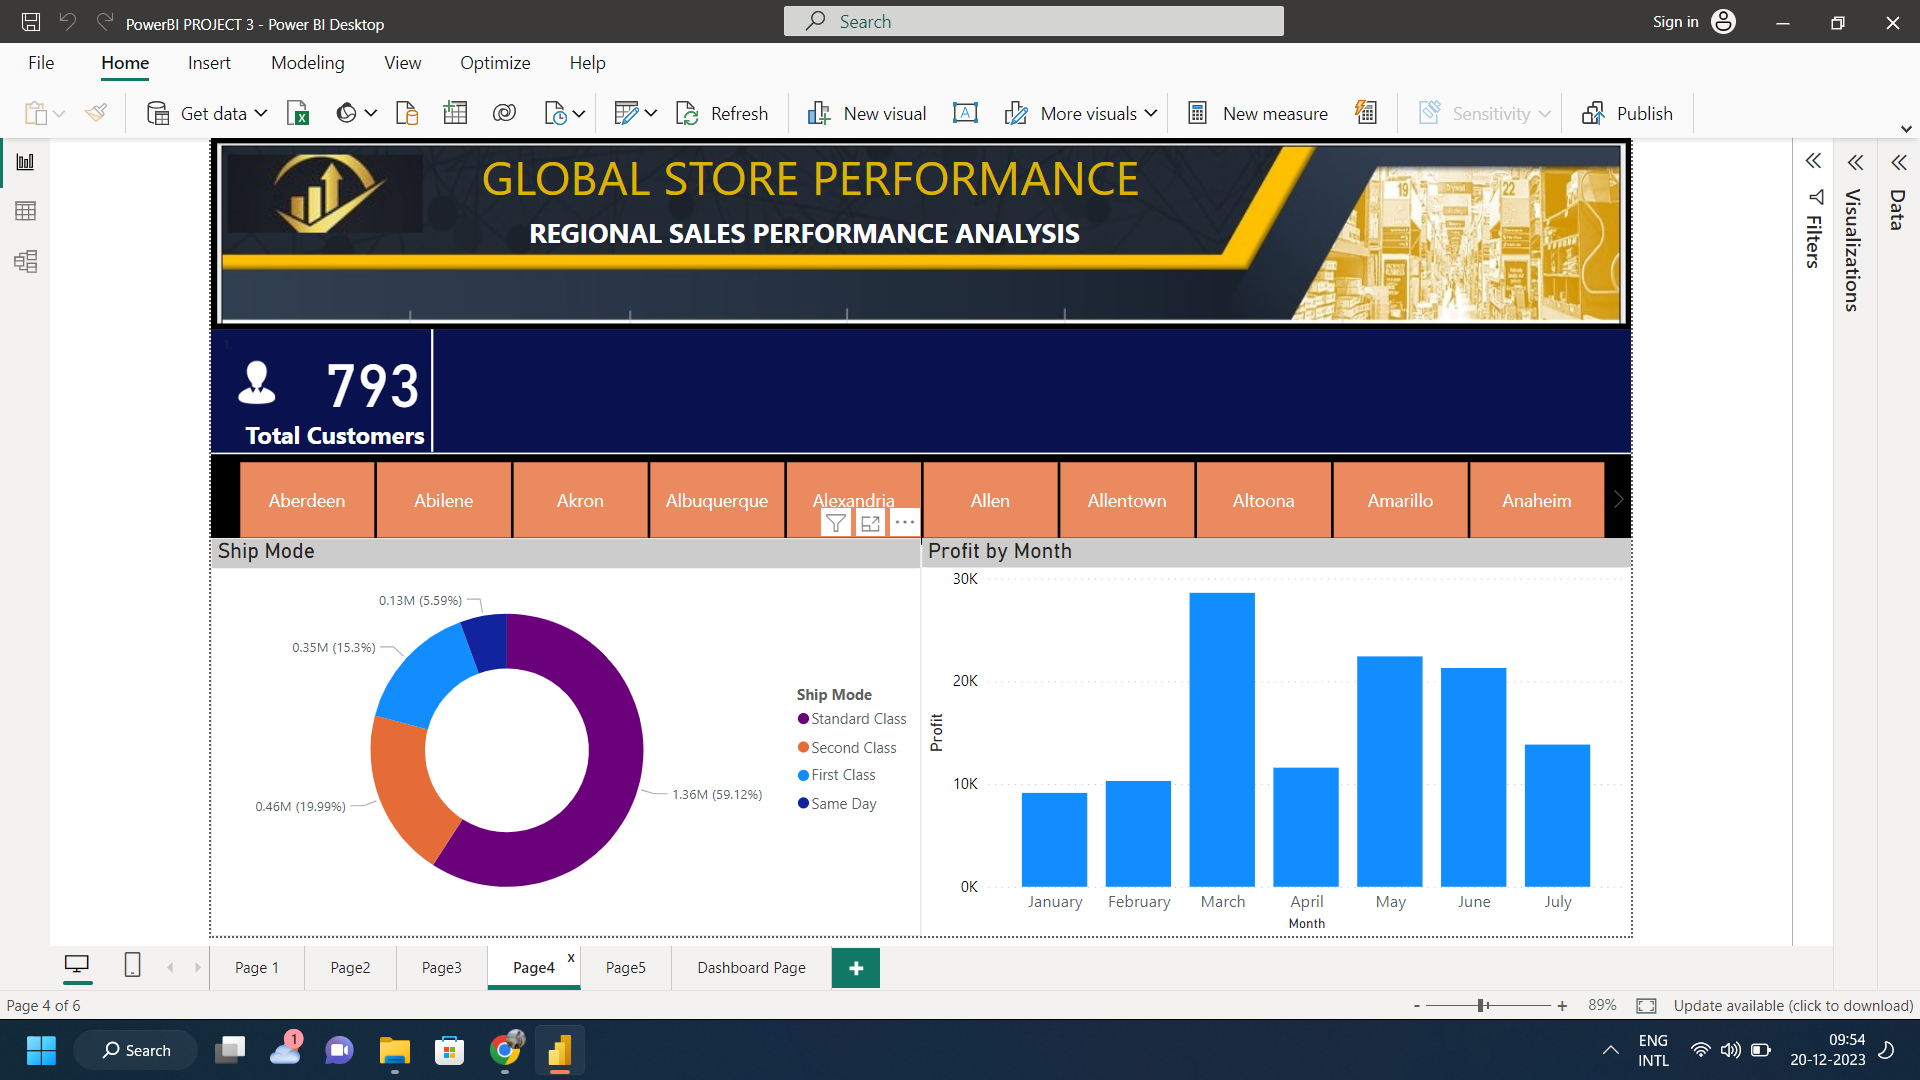

What the dashboard file says about the page in this screenshot:
{"tool":"powerbi","page":{"name":"Page4","canvas":[1280,720],"ordinal":3},"visuals":[{"type":"image","box":[0,0,1280,172.5],"z":0},{"type":"textbox","box":[238.9,0,618.4,73.3],"z":1000},{"type":"image","box":[10,10,186,80],"z":2000},{"type":"textbox","box":[281.2,63.8,549.4,44],"z":3000},{"type":"textbox","box":[0,172.5,1280,111.3],"z":4000},{"type":"image","box":[17.3,193.2,49.2,55.2],"z":5000},{"type":"card","fields":{"Values":["Count(Orders.Customer ID)"]},"box":[86.8,185.8,118.6,62.3],"z":6000},{"type":"textbox","box":[0,248.4,223.4,39.7],"z":7000},{"type":"shape","box":[194.1,172.5,11.2,110.4],"z":8000},{"type":"slicer","fields":{"Values":["Orders.City"]},"box":[0,284.6,1280,81.9],"z":9000},{"type":"donutChart","title":"Ship Mode","fields":{"Y":["Sum(Orders.Sales)"],"Category":["Orders.Ship Mode"]},"box":[0,360,640.3,360],"z":10000},{"type":"columnChart","fields":{"Y":["Sum(Orders.Profit)"],"Category":["Orders.Order Date.Variation.Date Hierarchy.Month"]},"box":[640.7,360.8,639.1,359.2],"z":11000}]}

Visuals, with their boxes on the page's 1280x720 design canvas (x1, y1, x2, y2). These are canvas units, not pixel positions in the 1920x1080 screenshot, which may show the page scaled, cropped or inside an application window:
image: region(0, 0, 1280, 172)
textbox: region(239, 0, 857, 73)
image: region(10, 10, 196, 90)
textbox: region(281, 64, 831, 108)
textbox: region(0, 172, 1280, 284)
image: region(17, 193, 66, 248)
card - Count(Orders.Customer ID): region(87, 186, 205, 248)
textbox: region(0, 248, 223, 288)
shape: region(194, 172, 205, 283)
slicer - Orders.City: region(0, 285, 1280, 366)
"Ship Mode" donutChart: region(0, 360, 640, 720)
columnChart - Sum(Orders.Profit) x Orders.Order Date.Variation.Date Hierarchy.Month: region(641, 361, 1280, 720)
